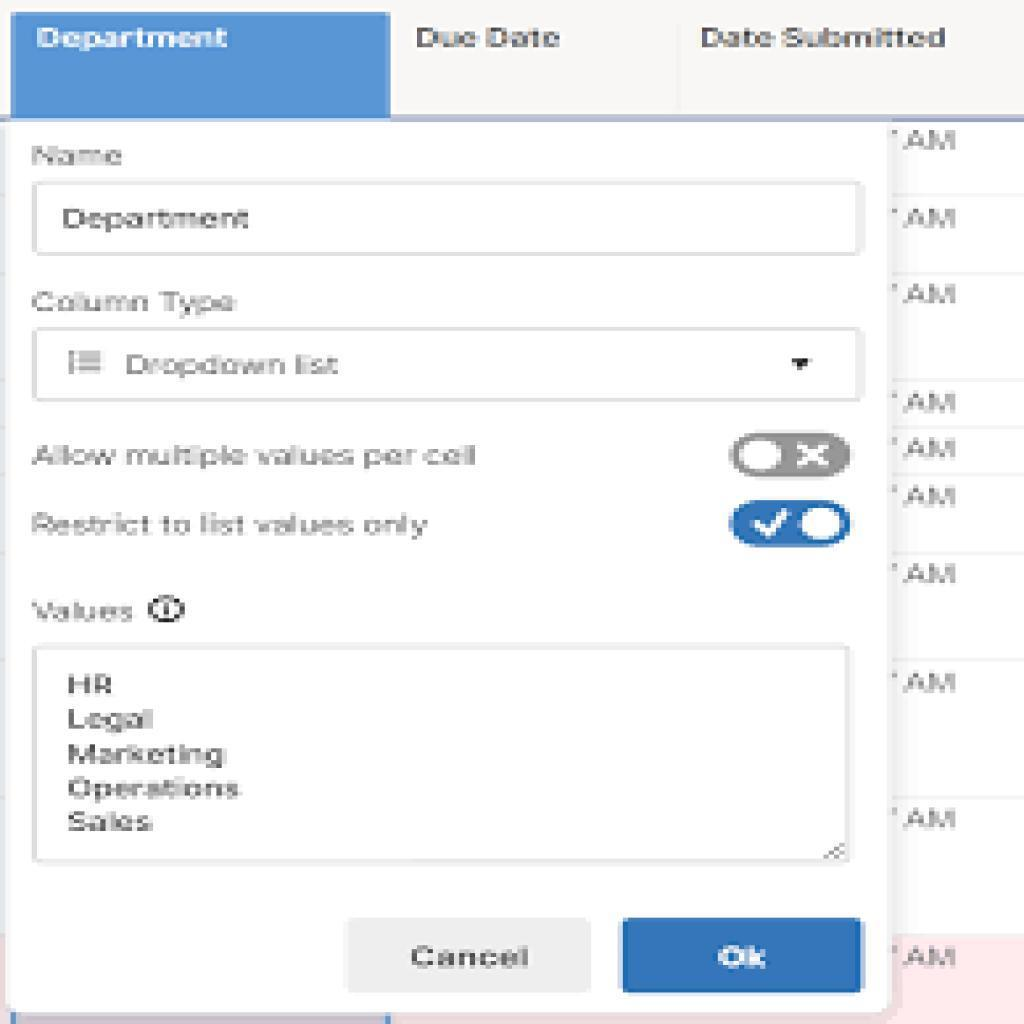button: (13, 13, 391, 114), (621, 916, 862, 996), (351, 916, 594, 992)
dropdown: (33, 330, 865, 404)
input: (31, 184, 858, 260)
label: (34, 440, 480, 476), (30, 508, 432, 545), (25, 285, 245, 323), (27, 138, 132, 174)
switch: (729, 500, 852, 550), (732, 433, 853, 478)
